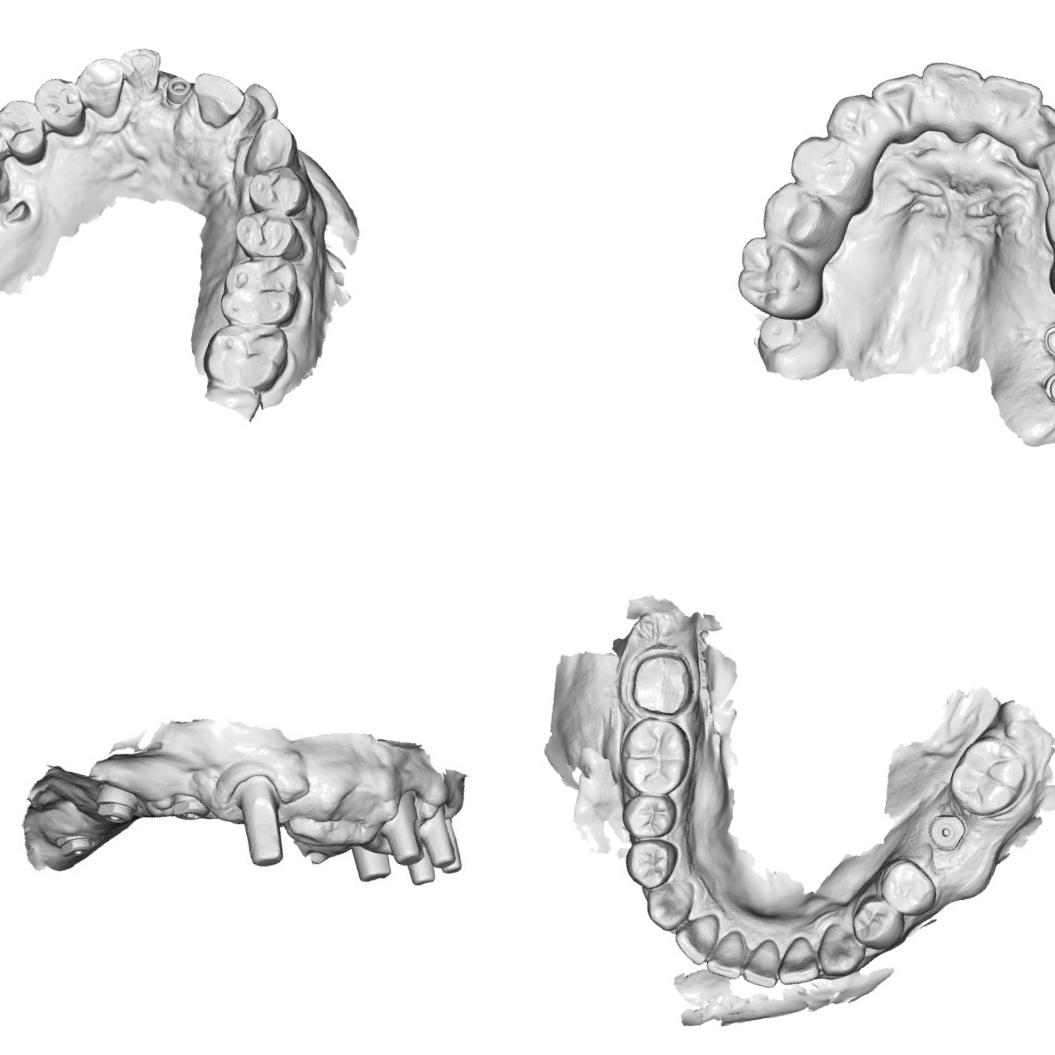abutment: (214, 767, 302, 873), (371, 784, 440, 872), (412, 800, 468, 871), (343, 837, 398, 889), (438, 822, 472, 878), (400, 854, 440, 892)
canine: (239, 110, 310, 188), (818, 84, 890, 154), (68, 50, 130, 120), (639, 870, 698, 936), (816, 918, 872, 979), (1036, 132, 1055, 206)
crown: (618, 638, 704, 726)
implant: (87, 780, 143, 830), (920, 806, 970, 856), (753, 310, 800, 356), (53, 826, 101, 866), (161, 73, 193, 107)
implant_minus: (166, 788, 214, 828), (1037, 314, 1055, 363), (1039, 365, 1055, 412)
incisor: (906, 53, 986, 141), (969, 68, 1047, 150), (860, 62, 931, 140), (182, 68, 250, 134), (230, 78, 286, 142), (1011, 98, 1055, 178), (668, 905, 722, 969), (772, 931, 827, 992), (112, 40, 166, 98), (702, 923, 752, 982), (738, 932, 788, 990)
molar: (725, 233, 834, 328), (940, 728, 1035, 826), (212, 244, 308, 338), (196, 308, 295, 398), (609, 710, 698, 804), (0, 112, 25, 209)
premolar: (753, 174, 852, 257), (782, 128, 870, 204), (228, 200, 311, 271), (871, 851, 946, 924), (242, 158, 314, 224), (26, 72, 94, 140), (0, 93, 56, 169), (614, 786, 682, 847), (618, 830, 682, 894), (844, 894, 910, 956), (1035, 179, 1055, 261)
